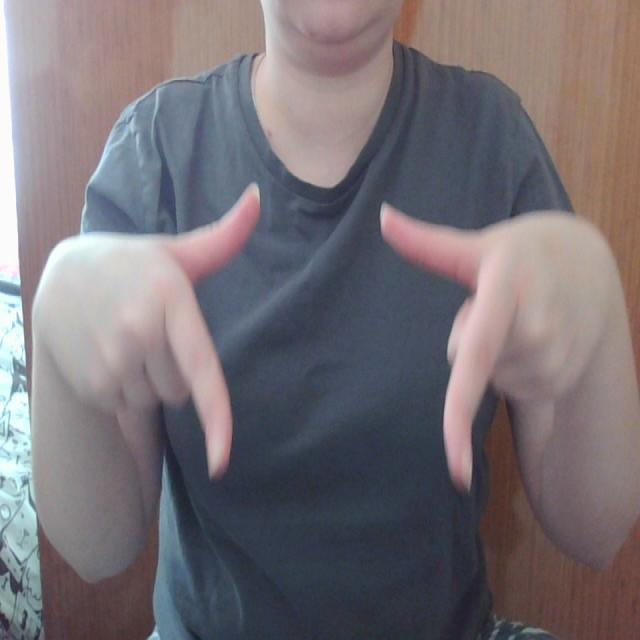Nerede: (158, 176, 530, 498)
